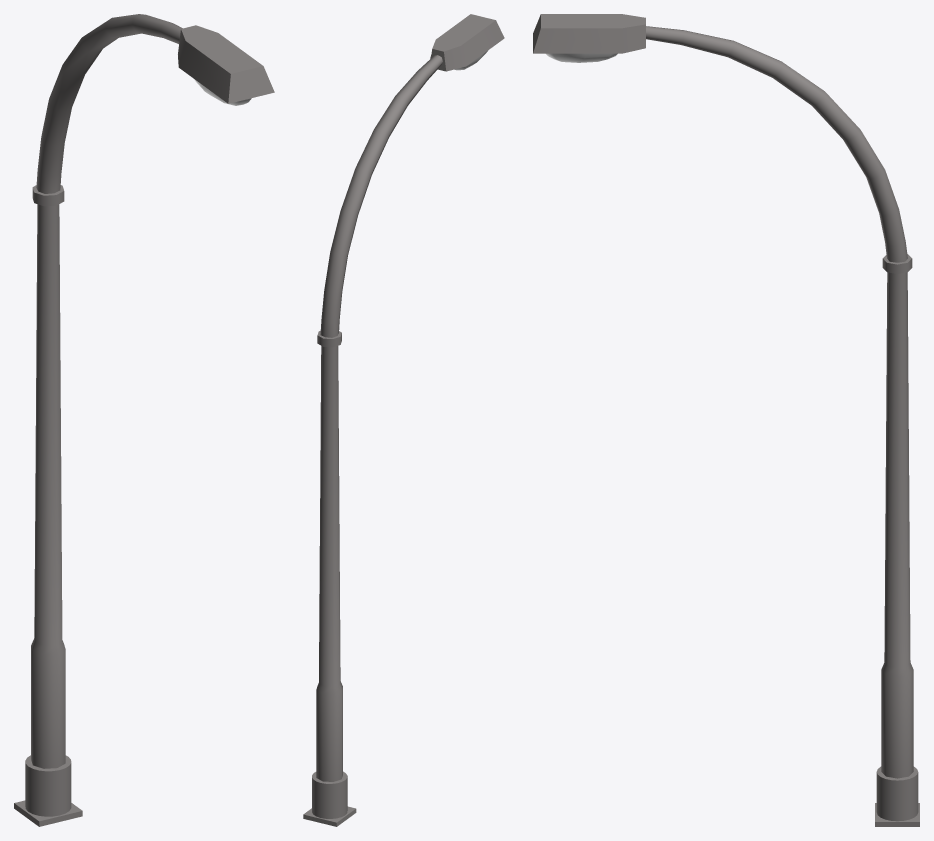
The model's file is S_StreetLights.gltf.
3 views of the same model, side by side, from view 1: azimuth 30°, elevation 25°; view 2: azimuth 150°, elevation 25°; view 3: azimuth 270°, elevation 25° (orthographic). The views are drawn at different scales.
Parts seen in each view (by area): view 1: Cylinder_029-col; view 2: Cylinder_029-col; view 3: Cylinder_029-col.
Boxes of the visible parts, bbox=[...] form: Cylinder_029-col: bbox=[14, 14, 274, 826]; Cylinder_029-col: bbox=[303, 14, 504, 826]; Cylinder_029-col: bbox=[533, 14, 919, 826].
Size of the model in its own units: 0.3643 by 6.64 by 2.93.
2 materials, 1 textured.
